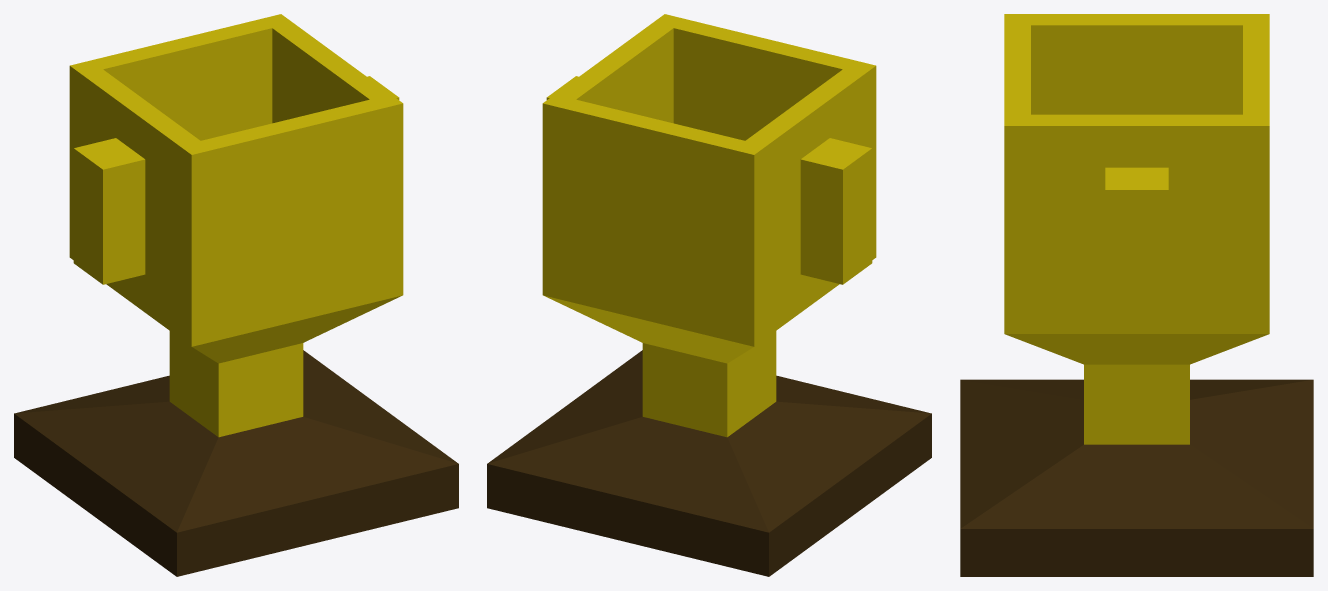
Rendered from Trophy.fbx.
3 views of the same model, side by side, from view 1: azimuth 30°, elevation 25°; view 2: azimuth 150°, elevation 25°; view 3: azimuth 270°, elevation 25° (orthographic). The views are drawn at different scales.
Parts seen in each view (by area): view 1: Cube; view 2: Cube; view 3: Cube.
Part boxes in pixels (x1,y1,x2,y2): Cube: [14, 14, 458, 576]; Cube: [487, 14, 931, 576]; Cube: [960, 14, 1313, 576].
Bounding box in the file's own units: 2.1 × 2.7 × 2.
